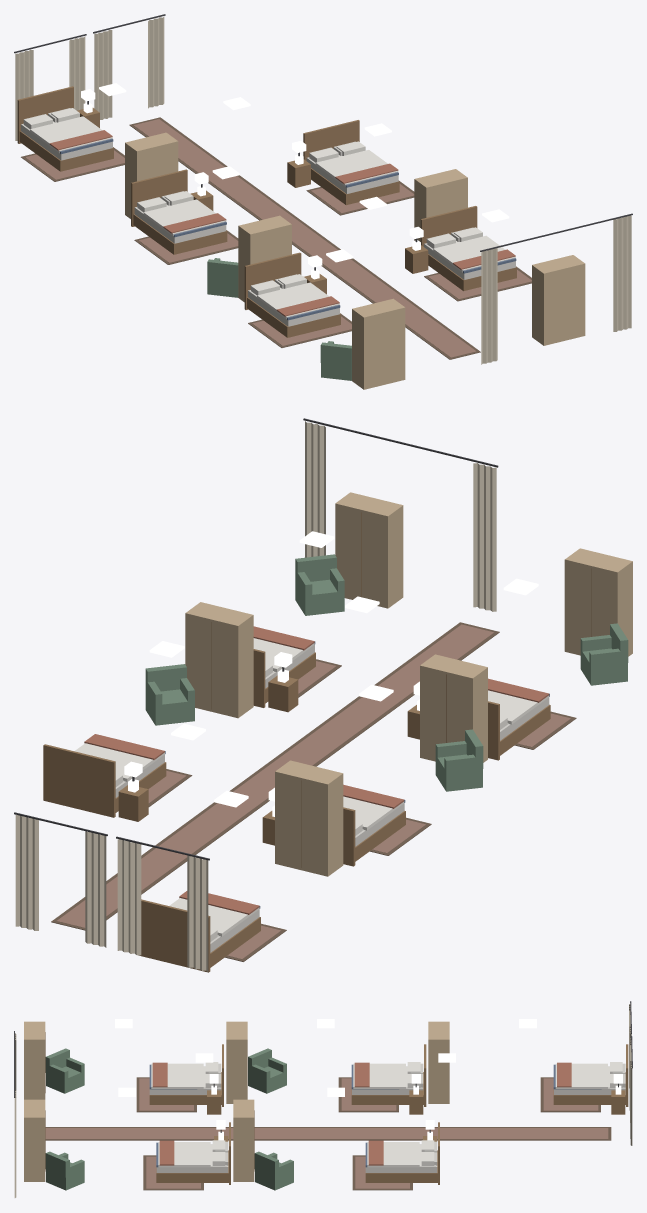
Rendered from fine-s1.glb.
3 views of the same model, one above another, from view 1: azimuth 30°, elevation 25°; view 2: azimuth 150°, elevation 25°; view 3: azimuth 270°, elevation 25° (orthographic). The views are drawn at different scales.
Parts seen in each view (by area): view 1: soft-s1, dresser.004, dresser.001, bed-frame.004, bed-frame.002, bed-frame.003, bed-frame.000, bed-frame.001, dresser.003, dresser.002, dresser.000, lounge-chair.002 (+3 smaller); view 2: soft-s1, dresser.002, dresser.000, dresser.001, dresser.004, dresser.003, bed-frame.000, bed-frame.002, lounge-chair.000, lounge-chair.001, lounge-chair.002, lounge-chair.003 (+5 smaller); view 3: soft-s1, dresser.000, dresser.001, dresser.003, dresser.002, dresser.004, bed-frame.001, bed-frame.000, lounge-chair.003, lounge-chair.002, bed-frame.002, bed-frame.003 (+6 smaller).
Boxes of the visible parts, x1,y1,x2,y2 form: soft-s1: [14, 14, 632, 364]; dresser.004: [352, 298, 405, 389]; dresser.001: [532, 255, 585, 345]; bed-frame.004: [244, 252, 340, 337]; bed-frame.002: [17, 86, 113, 171]; bed-frame.003: [131, 169, 227, 254]; bed-frame.000: [303, 120, 399, 205]; bed-frame.001: [420, 206, 516, 291]; dresser.003: [238, 215, 291, 302]; dresser.002: [125, 132, 178, 218]; dresser.000: [414, 169, 467, 241]; lounge-chair.002: [207, 258, 238, 297]; soft-s1: [14, 418, 576, 971]; dresser.002: [275, 760, 343, 876]; dresser.000: [185, 602, 253, 718]; dresser.001: [335, 492, 403, 608]; dresser.004: [564, 548, 632, 656]; dresser.003: [420, 654, 487, 762]; bed-frame.000: [43, 744, 166, 817]; bed-frame.002: [138, 899, 260, 972]; lounge-chair.000: [145, 664, 194, 725]; lounge-chair.001: [295, 554, 344, 615]; lounge-chair.002: [435, 729, 483, 791]; lounge-chair.003: [580, 623, 628, 685]; soft-s1: [14, 1001, 632, 1197]; dresser.000: [233, 1099, 254, 1181]; dresser.001: [24, 1099, 45, 1181]; dresser.003: [226, 1021, 247, 1103]; dresser.002: [428, 1021, 449, 1103]; dresser.004: [24, 1021, 45, 1099]; bed-frame.001: [156, 1122, 230, 1184]; bed-frame.000: [365, 1122, 439, 1184]; lounge-chair.003: [45, 1048, 84, 1093]; lounge-chair.002: [248, 1048, 286, 1093]; bed-frame.002: [553, 1044, 628, 1106]; bed-frame.003: [351, 1044, 426, 1106].
Size of the model in its own units: 8.19 by 3.21 by 17.43.
